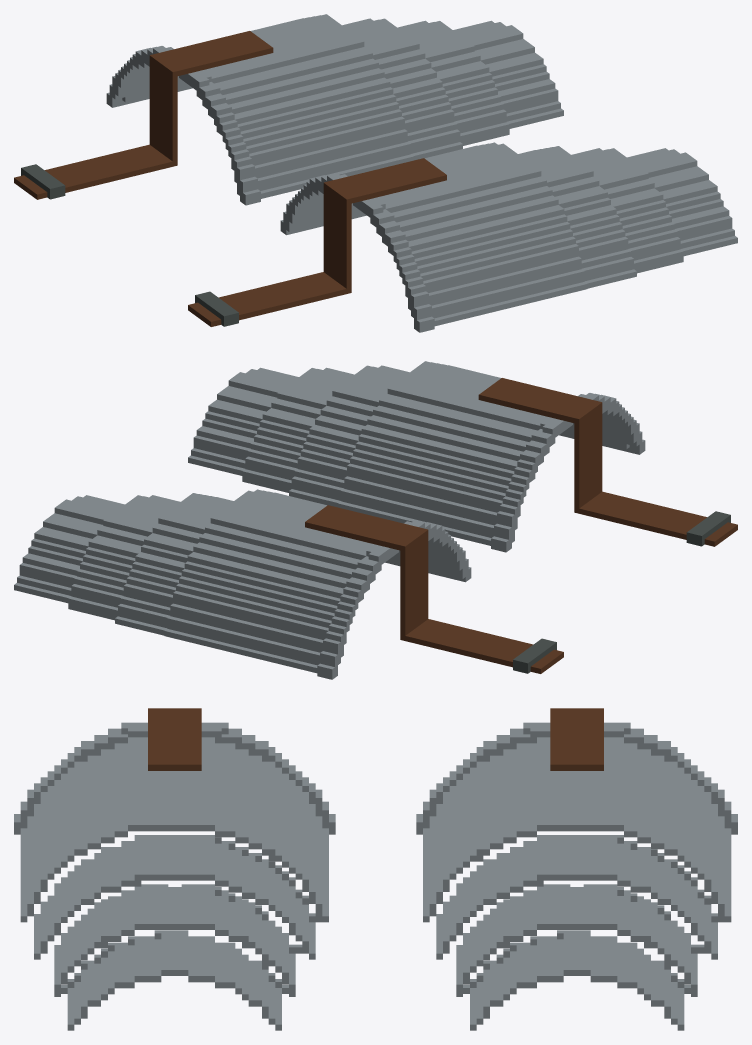
Rendered from ch_armguard_metal_sheets_shoulders.glb.
3 views of the same model, one above another, from view 1: azimuth 30°, elevation 25°; view 2: azimuth 150°, elevation 25°; view 3: azimuth 270°, elevation 25° (orthographic). The views are drawn at different scales.
Visible parts, largest first — view 1: ch_armguard_metal_sheets_shoulders:compound; view 2: ch_armguard_metal_sheets_shoulders:compound; view 3: ch_armguard_metal_sheets_shoulders:compound.
Part boxes in pixels (x1,y1,x2,y2): ch_armguard_metal_sheets_shoulders:compound: (14, 14, 737, 332); ch_armguard_metal_sheets_shoulders:compound: (14, 361, 737, 679); ch_armguard_metal_sheets_shoulders:compound: (14, 708, 737, 1030).
Bounding box in the file's own units: 0.392 × 0.08 × 0.432.
